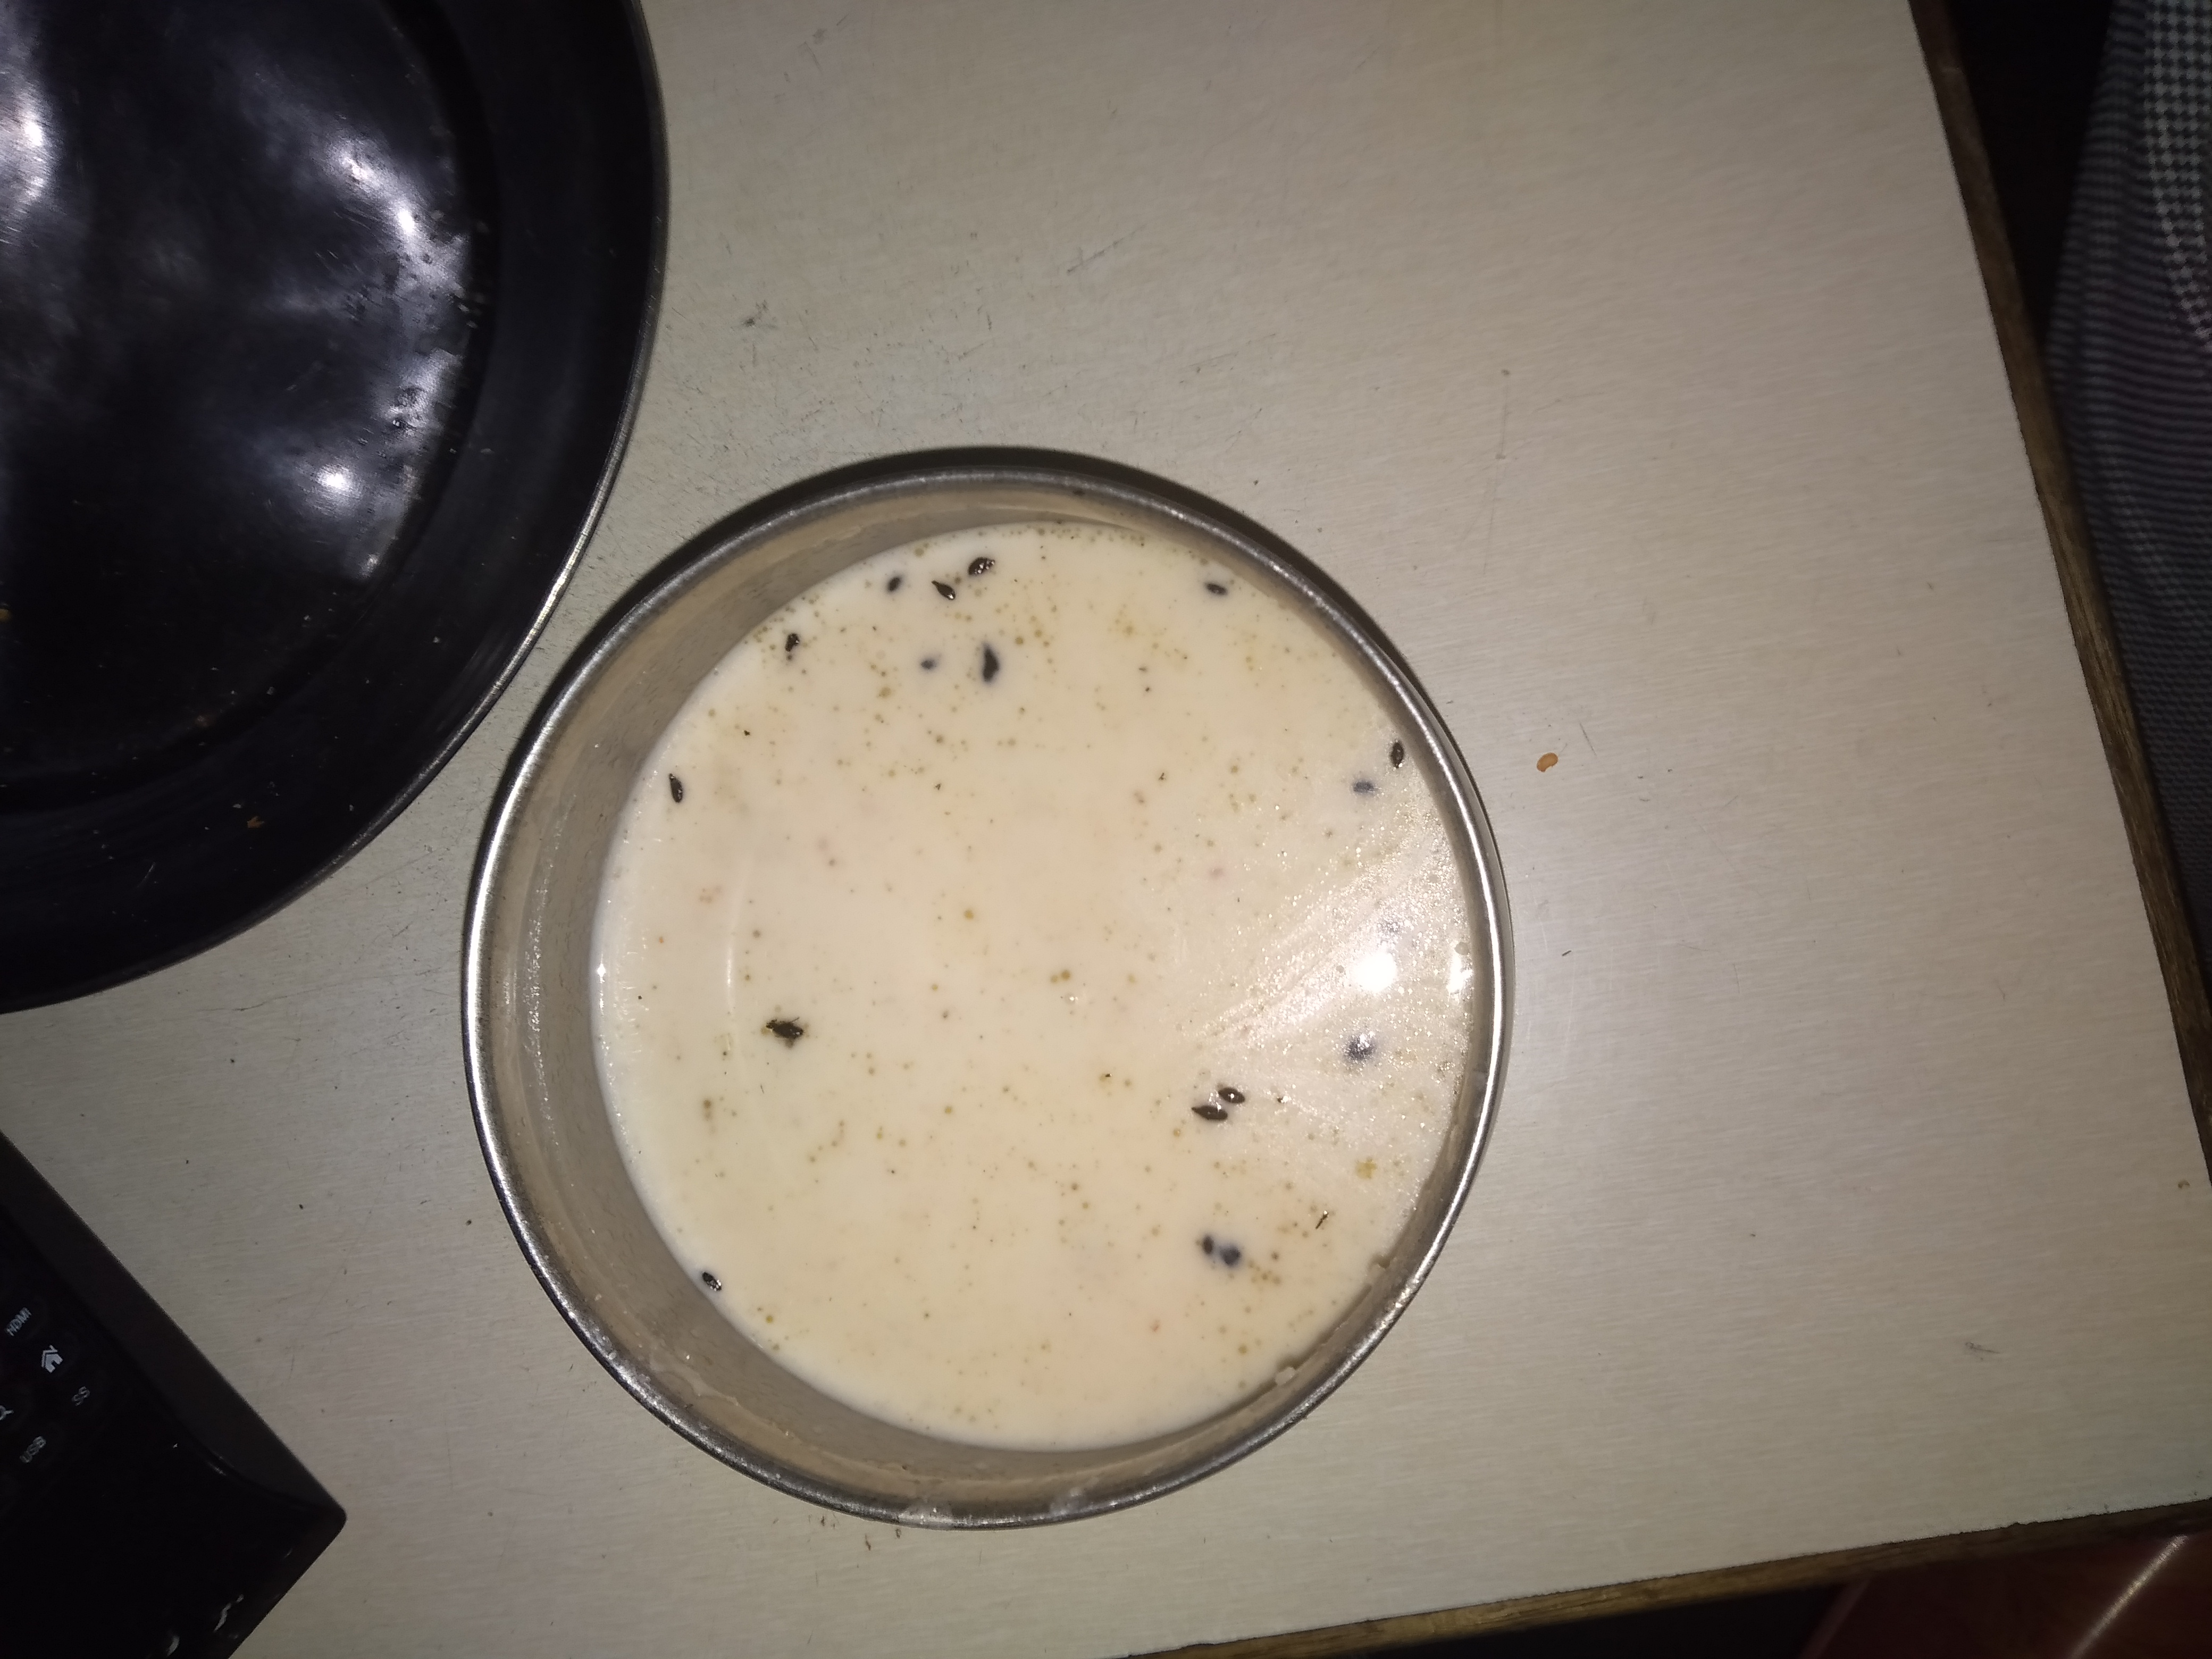food: (571, 509, 1489, 1460)
